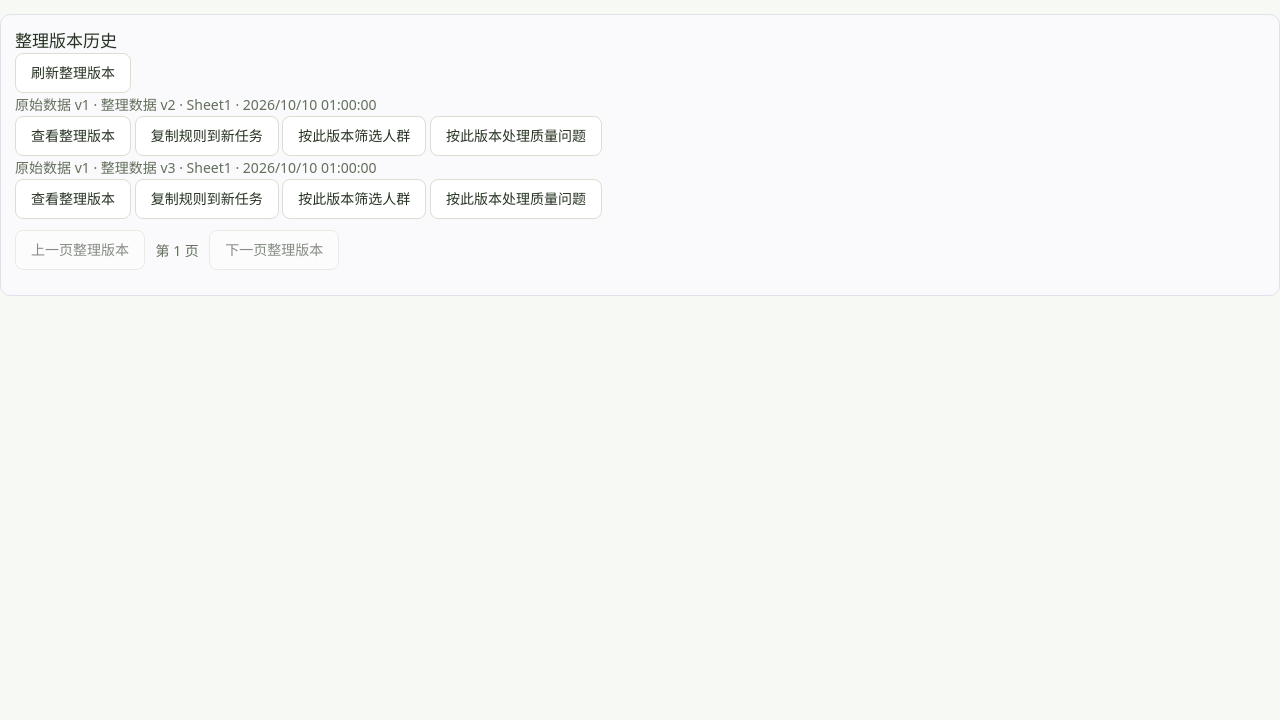
it: the latest history view choice survives an earlier delayed detail response
Click the button "查看整理版本" below "原始数据 v1 · 整理数据 v2" at x=73, y=136, box [15,116,131,156]
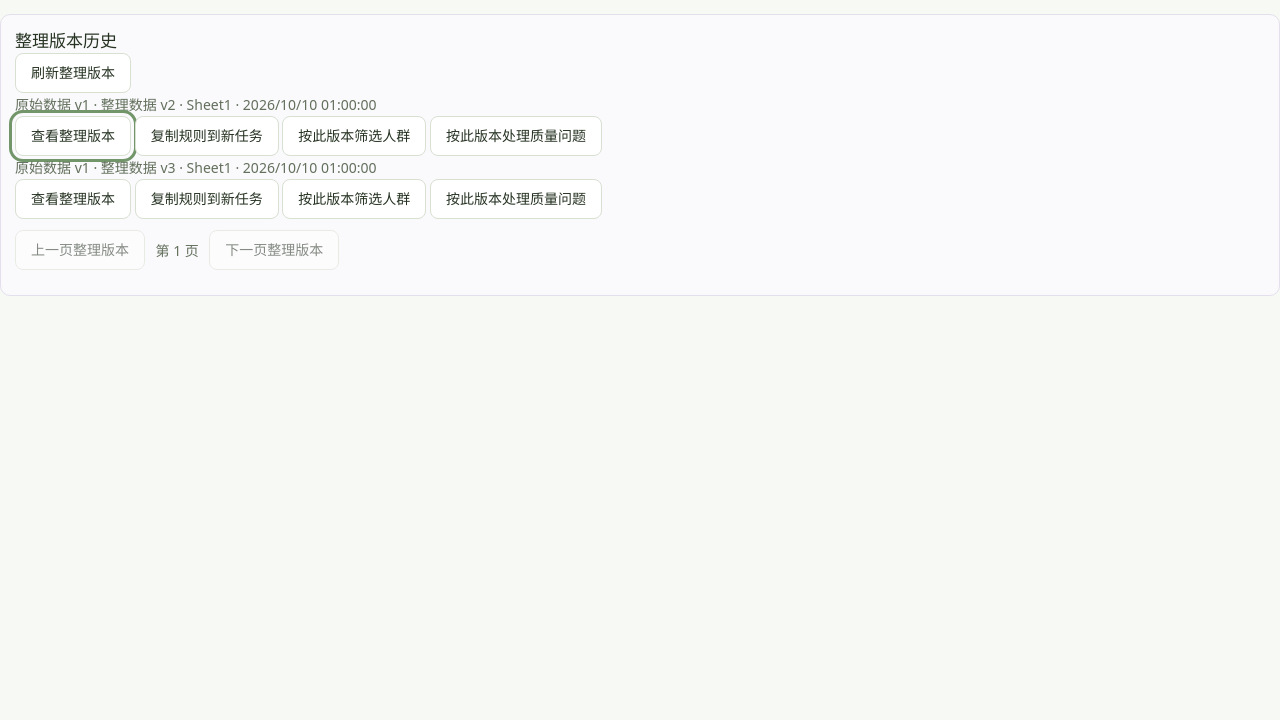
Click the button "查看整理版本" below "原始数据 v1 · 整理数据 v3" at x=73, y=199, box [15,179,131,219]
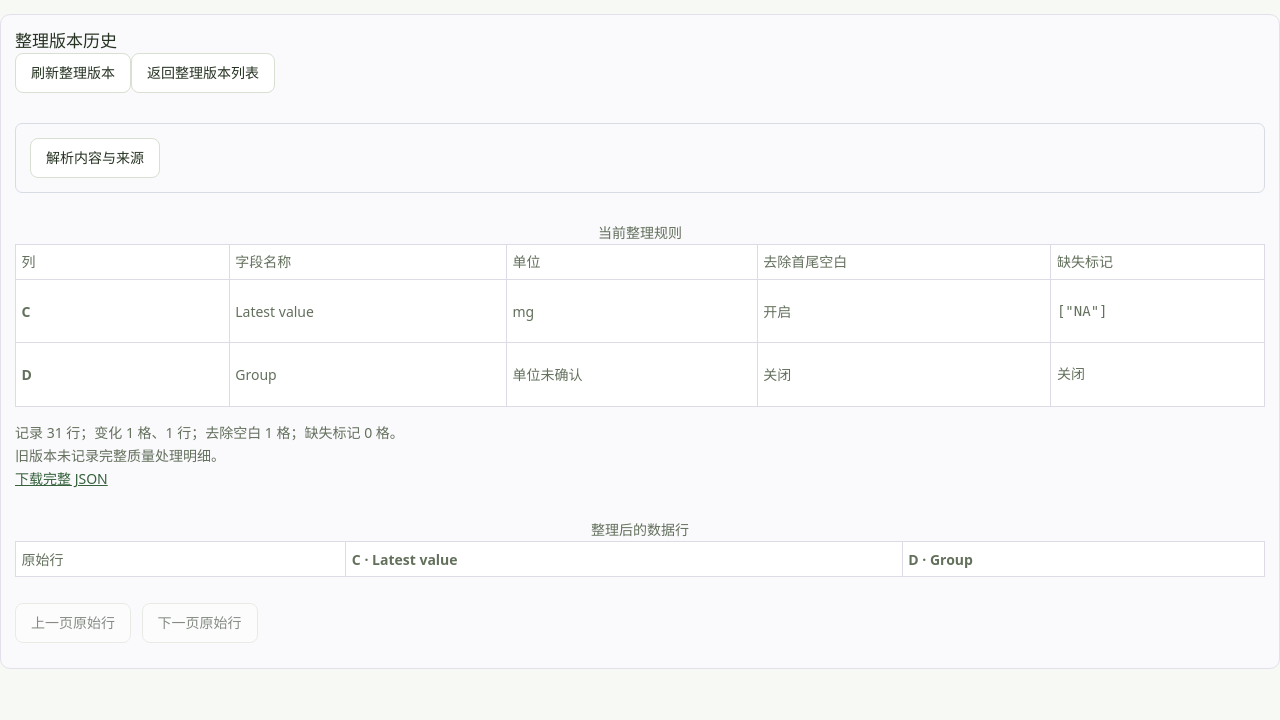
expect the table "当前整理规则" is shown: met, box [15,221,1265,407]
expect the text "Latest value" is shown: met, box [229,280,506,343]
